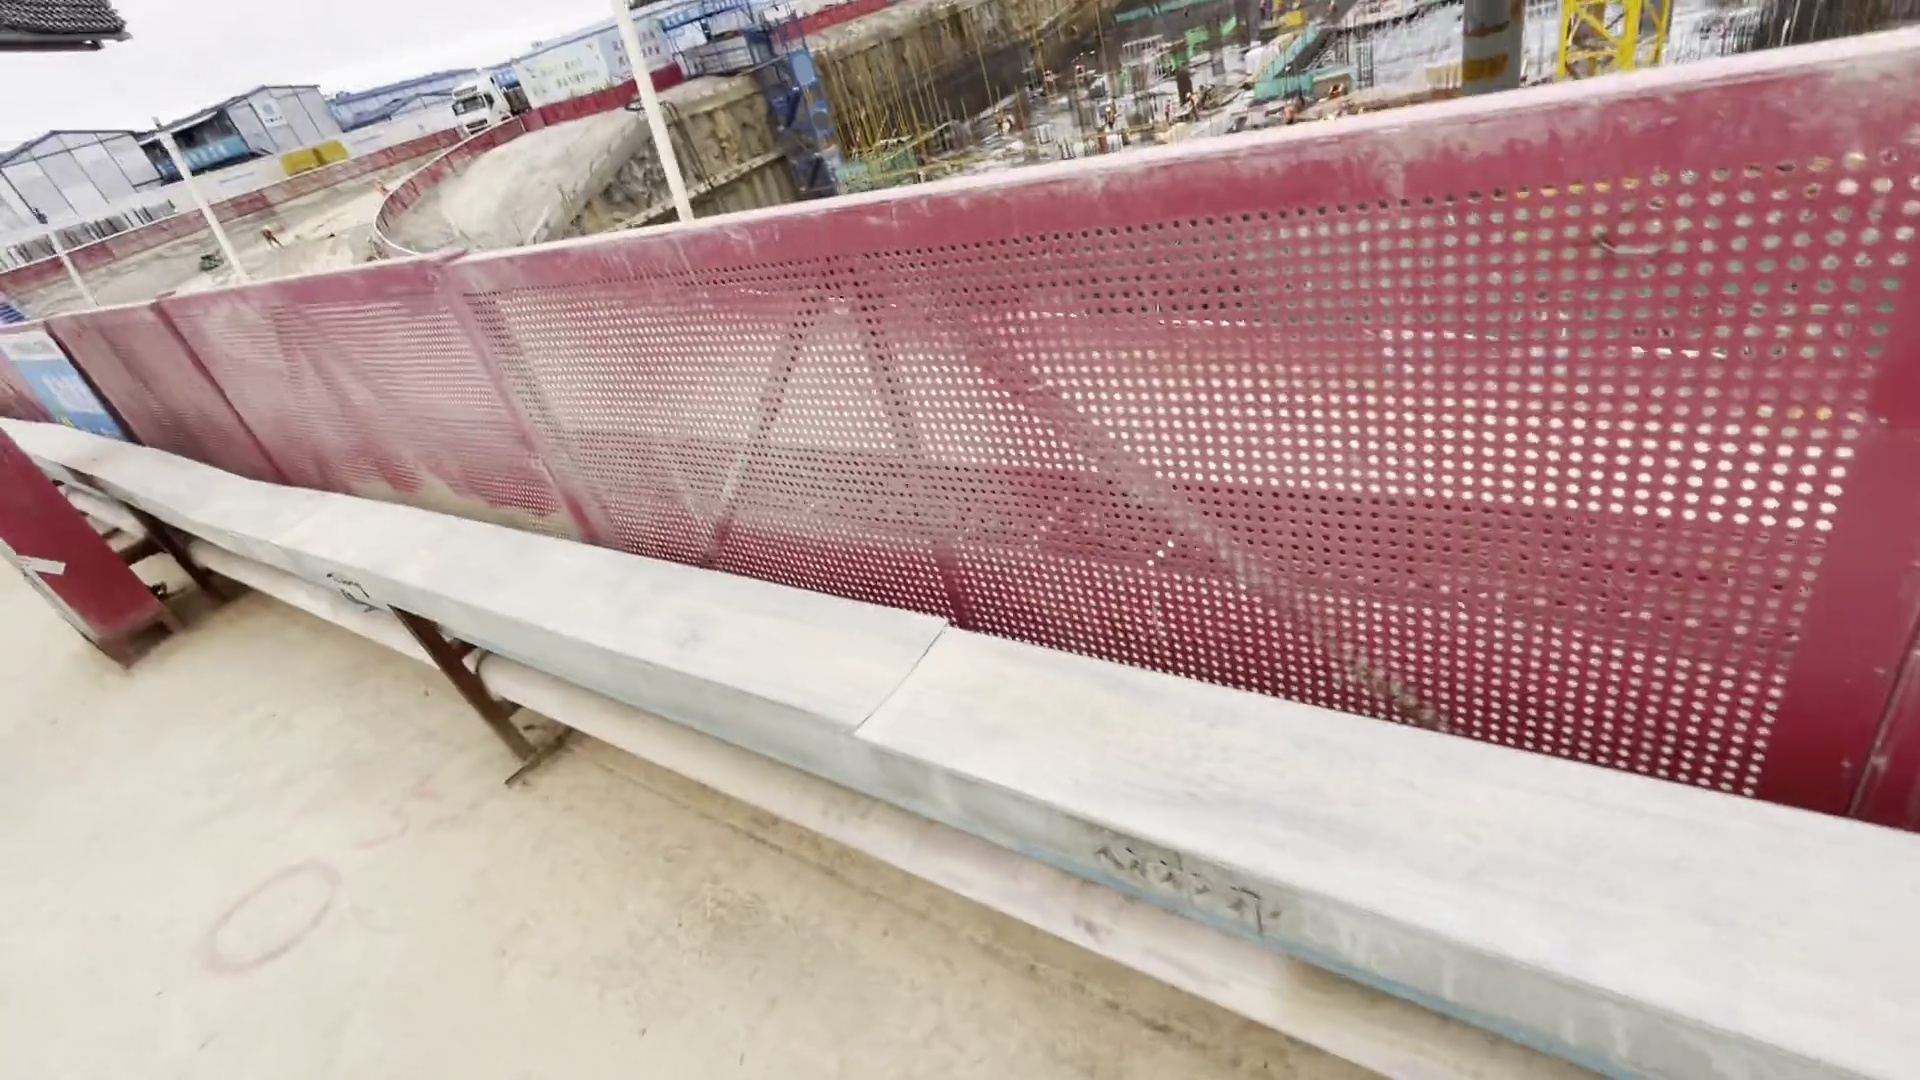fence: (1, 220, 1899, 781)
scaffold: (15, 1, 138, 54)
slogan: (530, 8, 704, 105), (144, 86, 305, 186), (1, 338, 133, 454)
